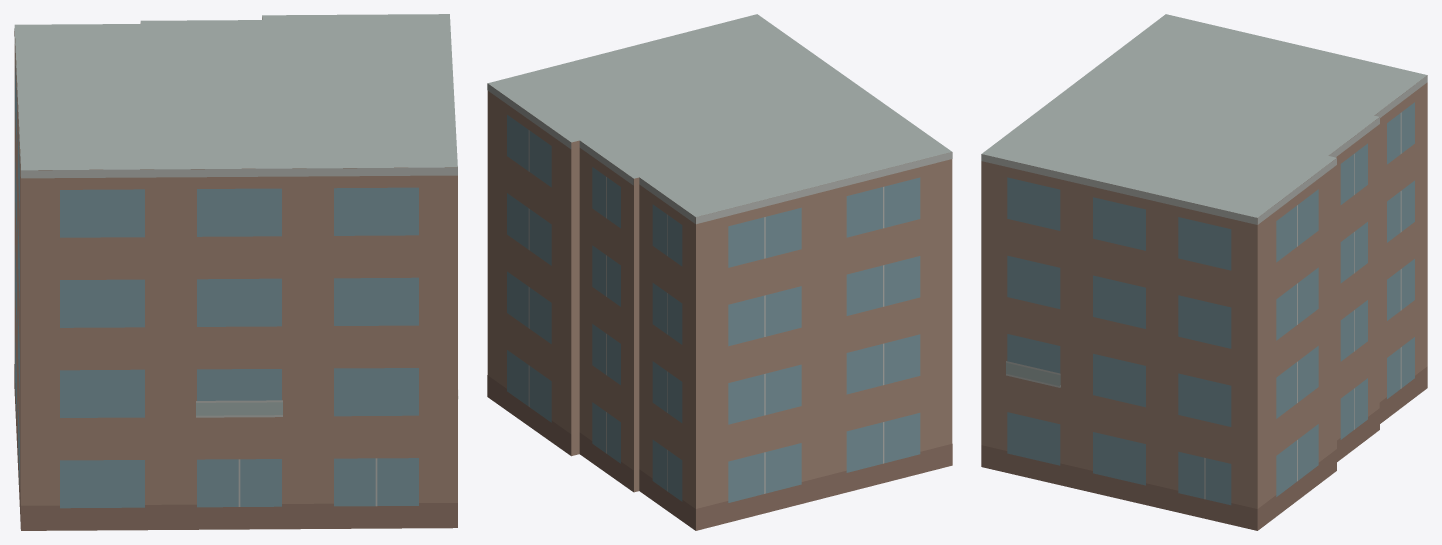
The model's file is survey-upis-33001951.glb.
3 renders of one model, left to right at view 1: azimuth 30°, elevation 25°; view 2: azimuth 150°, elevation 25°; view 3: azimuth 270°, elevation 25°, orthographic. The views are drawn at different scales.
Parts seen in each view (by area): view 1: survey-upis-33001951.tmp; view 2: survey-upis-33001951.tmp; view 3: survey-upis-33001951.tmp.
Part boxes in pixels (left/top/right/bottom): survey-upis-33001951.tmp: left=14, top=14, right=458, bottom=530; survey-upis-33001951.tmp: left=487, top=14, right=952, bottom=530; survey-upis-33001951.tmp: left=981, top=14, right=1427, bottom=530.
Size of the model in its own units: 15.1 by 10.8 by 13.96.
